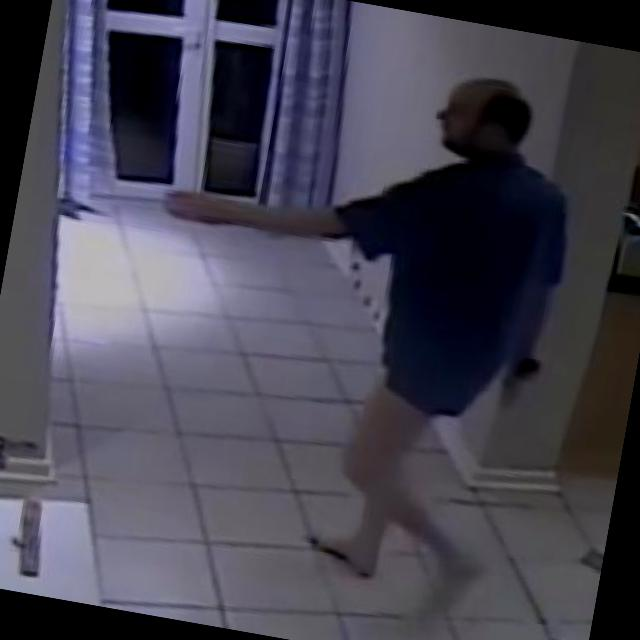Person: (260, 40, 600, 630)
